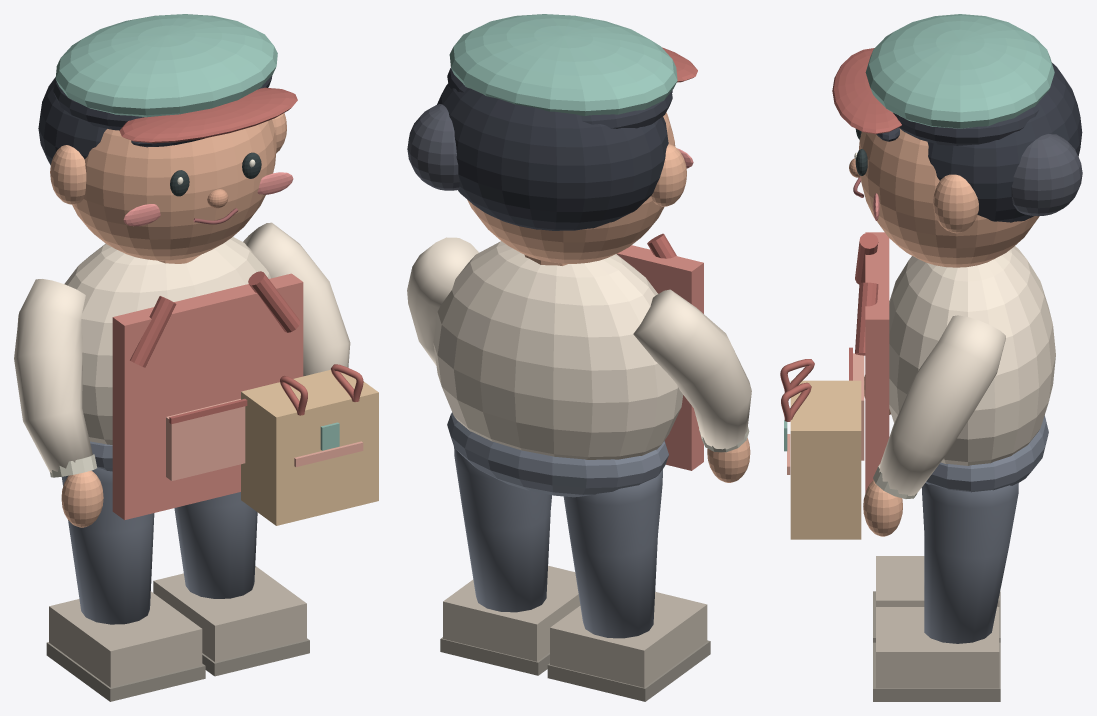
The model's file is park_pickup_clerk.glb.
3 views of the same model, side by side, from view 1: azimuth 30°, elevation 25°; view 2: azimuth 150°, elevation 25°; view 3: azimuth 270°, elevation 25° (orthographic). The views are drawn at different scales.
Parts seen in each view (by area): view 1: apron_body, rounded_face, service_cap_crown, takeaway_bag, cafe_torso, L_continuous_linen_sleeve, L_low_canvas_shoe, L_single_tapered_pant_leg, R_low_canvas_shoe, R_single_tapered_pant_leg, R_continuous_linen_sleeve, soft_cap_bill (+16 smaller); view 2: cafe_torso, hair_back, service_cap_crown, L_single_tapered_pant_leg, R_single_tapered_pant_leg, L_continuous_linen_sleeve, L_low_canvas_shoe, soft_hip, R_low_canvas_shoe, rounded_face, apron_body, R_continuous_linen_sleeve (+6 smaller); view 3: cafe_torso, service_cap_crown, R_single_tapered_pant_leg, R_continuous_linen_sleeve, takeaway_bag, rounded_face, R_low_canvas_shoe, hair_back, apron_body, low_hair_bun, soft_hip, soft_cap_bill (+10 smaller).
Boxes of the visible parts, x1,y1,x2,y2 form: apron_body: (112,273,303,520); rounded_face: (72,119,276,260); service_cap_crown: (55,14,277,117); takeaway_bag: (241,369,378,525); cafe_torso: (64,237,270,444); L_continuous_linen_sleeve: (14,279,92,472); L_low_canvas_shoe: (49,591,202,687); L_single_tapered_pant_leg: (61,468,154,624); R_low_canvas_shoe: (153,566,306,661); R_single_tapered_pant_leg: (174,492,257,598); R_continuous_linen_sleeve: (243,222,350,376); soft_cap_bill: (119,87,297,143); cafe_torso: (433,241,683,459); hair_back: (437,83,668,230); service_cap_crown: (449,14,677,115); L_single_tapered_pant_leg: (563,469,662,638); R_single_tapered_pant_leg: (454,447,551,612); L_continuous_linen_sleeve: (633,289,751,449); L_low_canvas_shoe: (550,592,707,687); soft_hip: (447,412,668,497); R_low_canvas_shoe: (443,565,580,661); rounded_face: (467,112,675,263); apron_body: (617,245,703,470); R_continuous_linen_sleeve: (407,237,478,365); cafe_torso: (889,246,1055,465); service_cap_crown: (865,14,1054,128); R_single_tapered_pant_leg: (921,482,1018,643); R_continuous_linen_sleeve: (879,315,1005,495); takeaway_bag: (790,380,861,539); rounded_face: (858,128,1039,267); R_low_canvas_shoe: (876,607,999,688); hair_back: (927,63,1082,222); apron_body: (865,232,889,492); low_hair_bun: (1011,134,1082,216); soft_hip: (925,415,1048,492); soft_cap_bill: (832,48,901,133).
Size of the model in its own units: 0.8908 by 1.62 by 0.7259.
